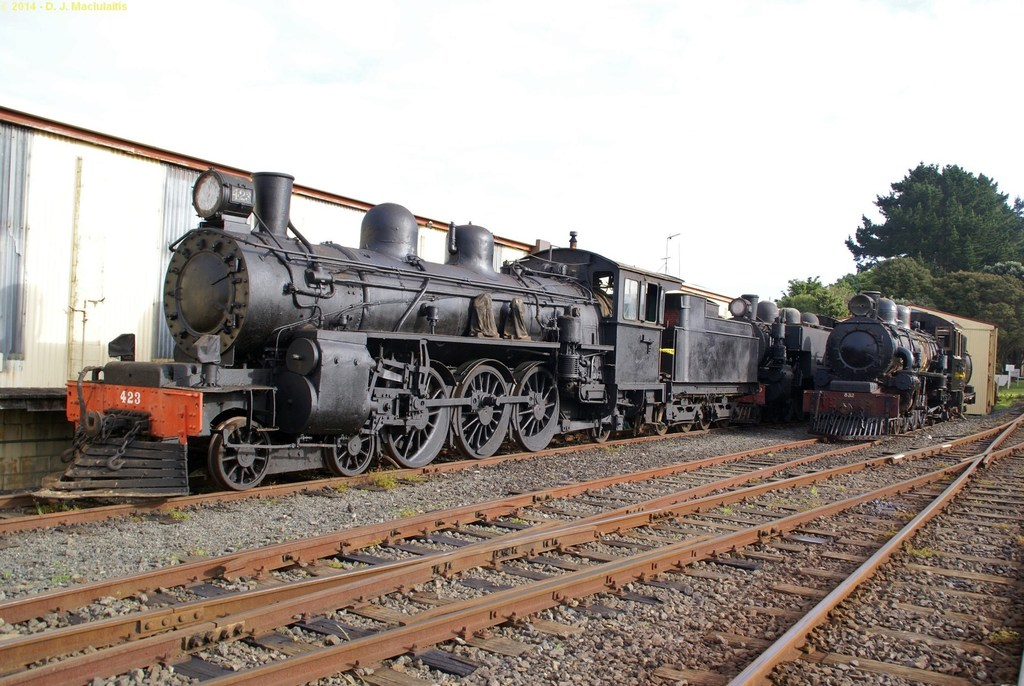train: (802, 291, 977, 437)
